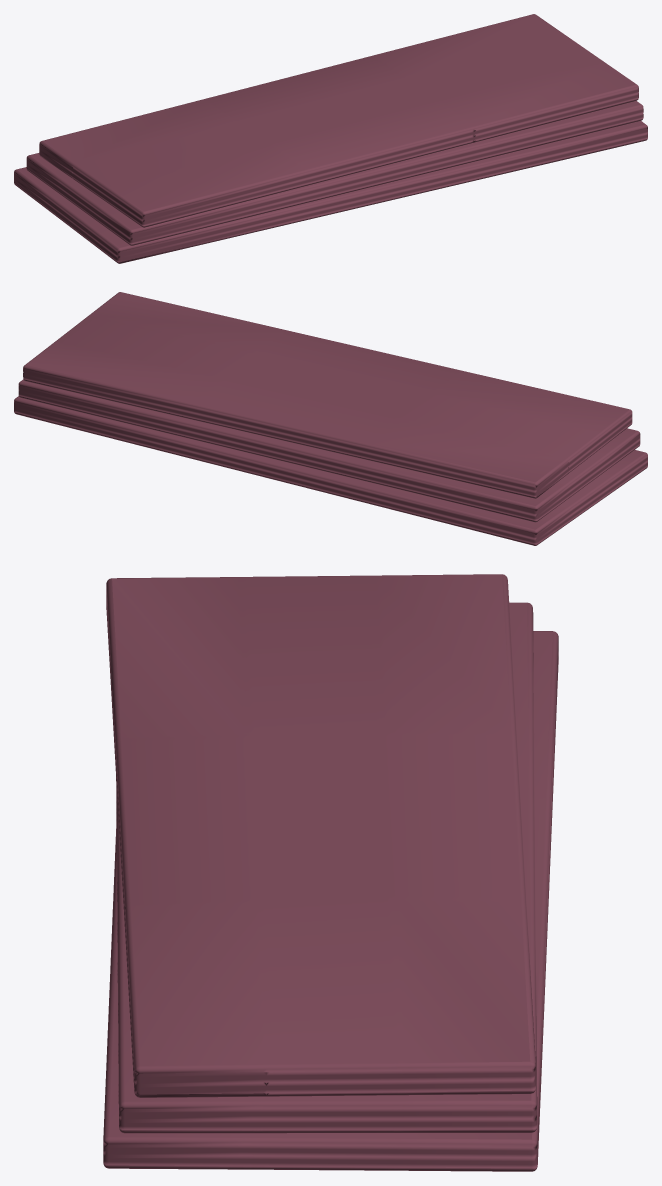
Rendered from Chan_GapDo.glb.
The picture shows the model from 3 angles, top to bottom: view 1: azimuth 30°, elevation 25°; view 2: azimuth 150°, elevation 25°; view 3: azimuth 270°, elevation 25°; orthographic projection. The views are drawn at different scales.
Parts seen in each view (by area): view 1: geometry_0; view 2: geometry_0; view 3: geometry_0.
Boxes of the visible parts, box(x1,y1,x2,y2) form: geometry_0: box(14, 14, 647, 263); geometry_0: box(14, 292, 647, 545); geometry_0: box(103, 574, 558, 1171).
Size of the model in its own units: 1.49 by 0.1439 by 0.5555.
